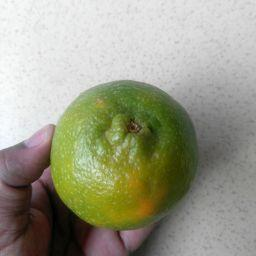Unripe: (53, 79, 201, 231)
